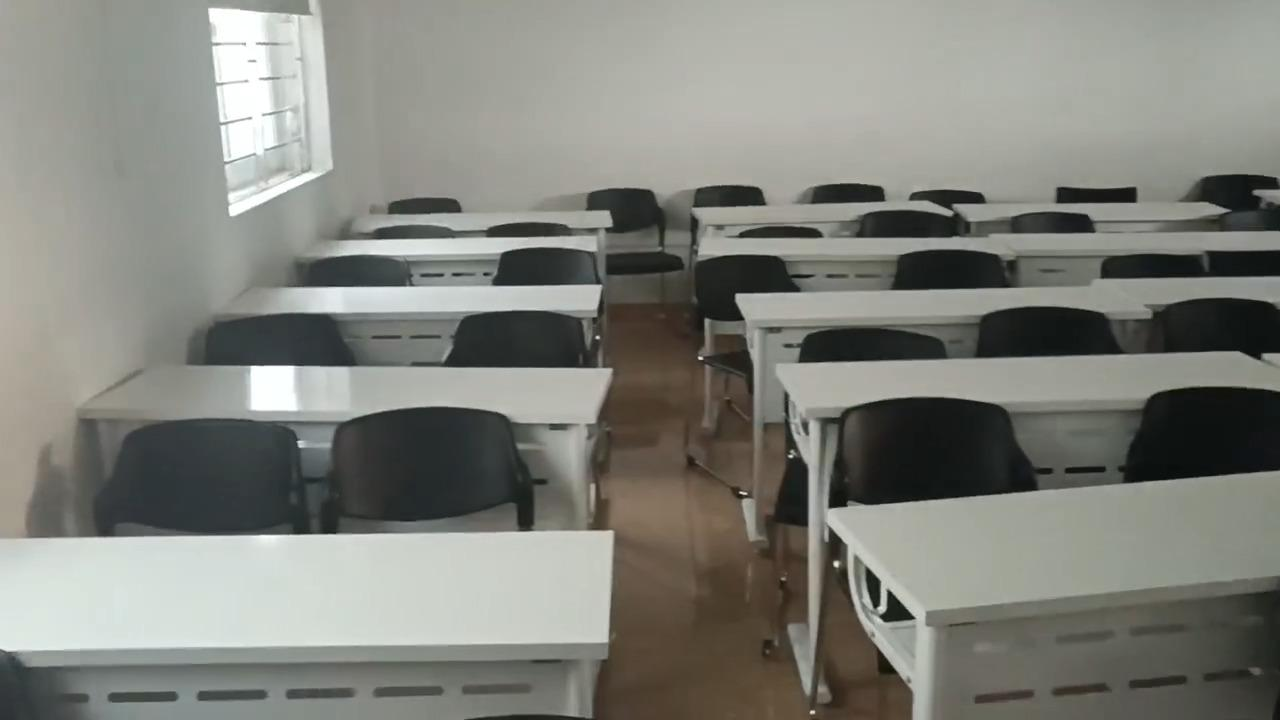chair: (684, 259, 805, 496), (319, 407, 531, 533), (93, 418, 307, 537), (834, 397, 1037, 508), (1125, 386, 1279, 484), (586, 189, 686, 314), (982, 305, 1128, 359), (199, 314, 354, 360), (444, 315, 580, 366), (1166, 296, 1279, 356), (800, 326, 948, 365), (892, 253, 1011, 291), (497, 251, 601, 281), (1200, 175, 1278, 214), (304, 257, 406, 285), (865, 211, 951, 239), (1206, 248, 1279, 279), (1103, 256, 1204, 278), (1015, 209, 1096, 233), (698, 185, 767, 207), (815, 182, 886, 203), (1053, 185, 1137, 201), (906, 188, 991, 203), (480, 224, 566, 238), (374, 225, 455, 239), (1224, 213, 1277, 234), (391, 199, 460, 214), (734, 231, 818, 236)
table: (0, 527, 612, 716), (823, 470, 1278, 719), (84, 361, 610, 419), (774, 356, 1279, 406), (738, 283, 1150, 323), (214, 285, 602, 314), (995, 230, 1279, 257), (697, 234, 1015, 258), (346, 208, 612, 235), (955, 196, 1231, 222), (301, 237, 598, 257), (680, 199, 955, 219), (1101, 277, 1279, 306)
